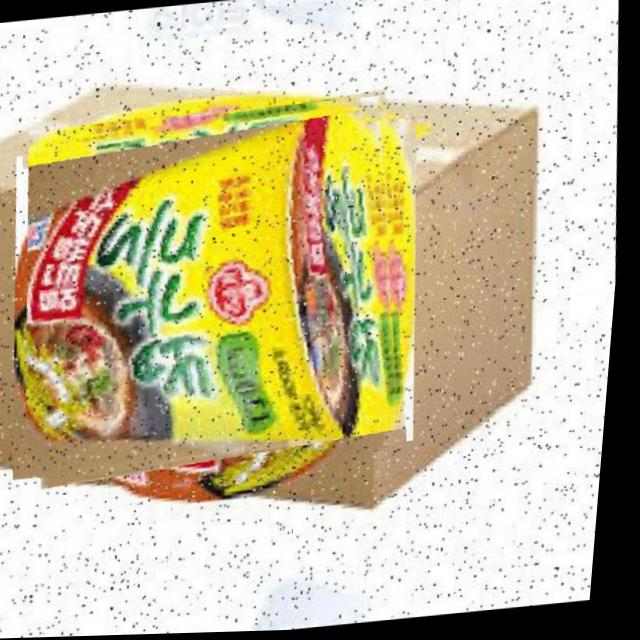Miscellaneous: (6, 94, 432, 502)
